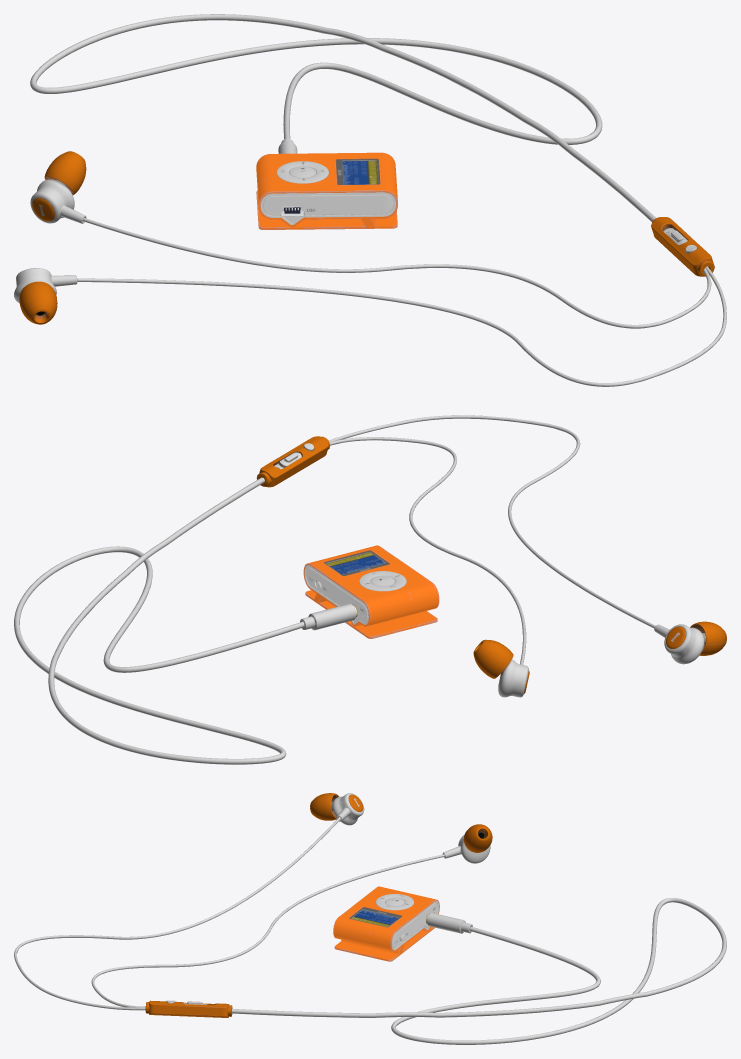
File: mp3_player_glb-v1.glb
3 renders of one model, top to bottom at view 1: azimuth 30°, elevation 25°; view 2: azimuth 150°, elevation 25°; view 3: azimuth 270°, elevation 25°, orthographic. The views are drawn at different scales.
Parts seen in each view (by area): view 1: earphones, mp3_player; view 2: earphones, mp3_player; view 3: earphones, mp3_player.
Boxes of the visible parts, left/top/right/bottom form: earphones: left=14, top=14, right=726, bottom=386; mp3_player: left=256, top=152, right=397, bottom=229; earphones: left=14, top=415, right=726, bottom=764; mp3_player: left=303, top=545, right=439, bottom=638; earphones: left=14, top=793, right=726, bottom=1044; mp3_player: left=333, top=886, right=439, bottom=961.
Size of the model in its own units: 0.3993 by 0.0341 by 0.5176.
Materials: 3 (2 with a texture image).
